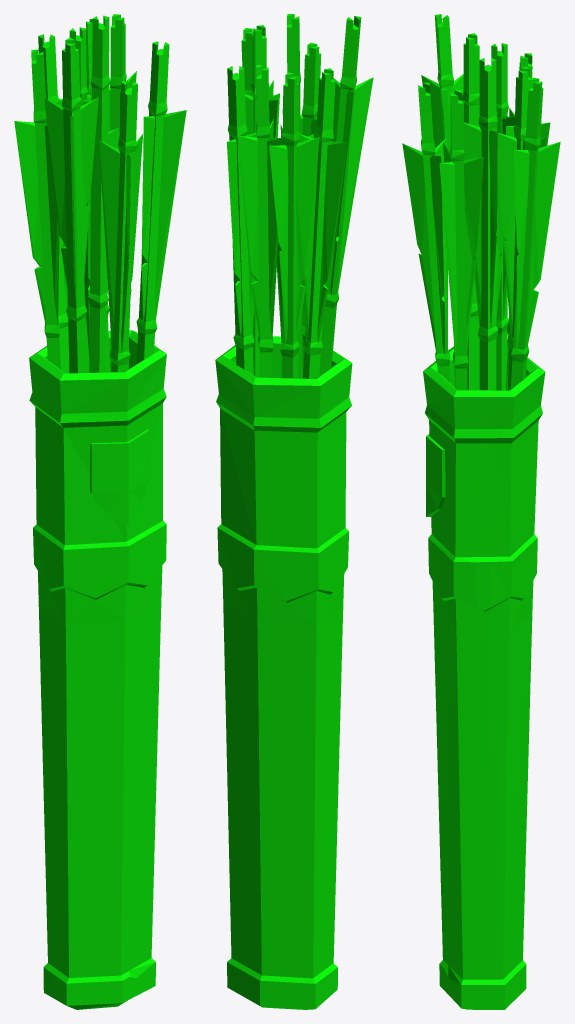
The model's file is SM_Quiver_Arrow_Full_Color_B_Fantasy.fbx.
3 renders of one model, left to right at view 1: azimuth 30°, elevation 25°; view 2: azimuth 150°, elevation 25°; view 3: azimuth 270°, elevation 25°, orthographic. The views are drawn at different scales.
Parts seen in each view (by area): view 1: quiver-arrow-full-color-b-fantasy; view 2: quiver-arrow-full-color-b-fantasy; view 3: quiver-arrow-full-color-b-fantasy.
Boxes of the visible parts, x1=… form: quiver-arrow-full-color-b-fantasy: x1=14, y1=14, x2=186, y2=1009; quiver-arrow-full-color-b-fantasy: x1=215, y1=14, x2=373, y2=1009; quiver-arrow-full-color-b-fantasy: x1=402, y1=14, x2=560, y2=1009.
Bounding box in the file's own units: 0.16 × 1.07 × 0.1613.
